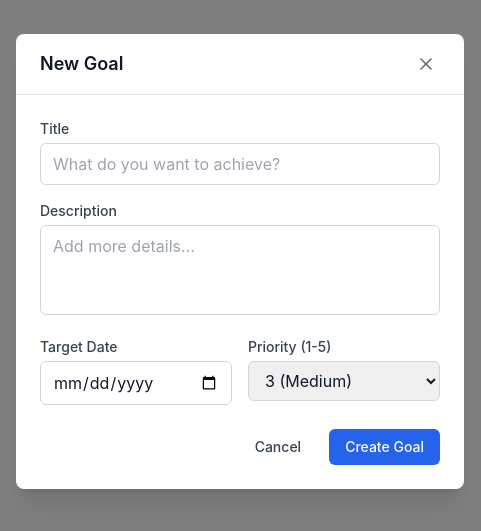
Scenario: GoalModal › shows validation error when title is empty
This screenshot has width=481, height=531.
Click the button "Create Goal" at coordinates (385, 446), box [329, 428, 440, 464]
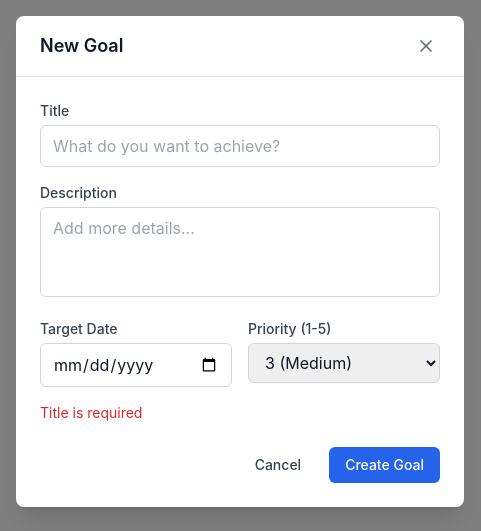
Result: the text "Title is required" is shown at [40, 404, 142, 420]
